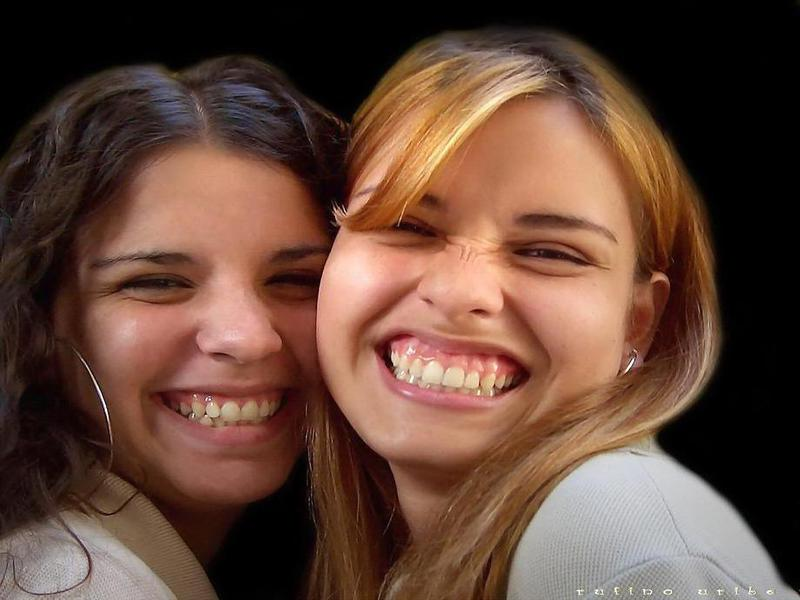person: (315, 30, 798, 593), (8, 58, 318, 600)
